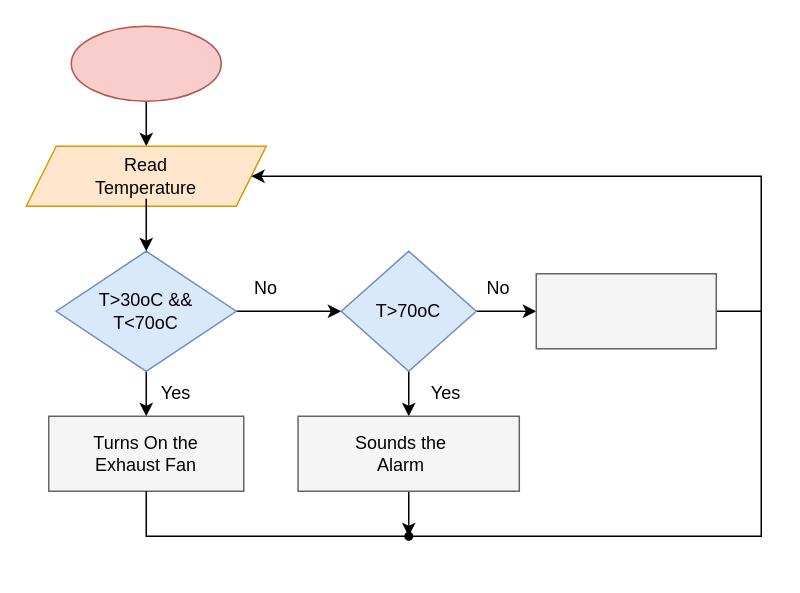
The diagram is 800 pixels wide and 593 high, and some of its shapes have lost their labels. Here are the shapes that lost their labels. From the top down, the centre of each, then its label:
(x=145, y=63): Start
(x=625, y=310): Turns Off the Exhaust Fan
